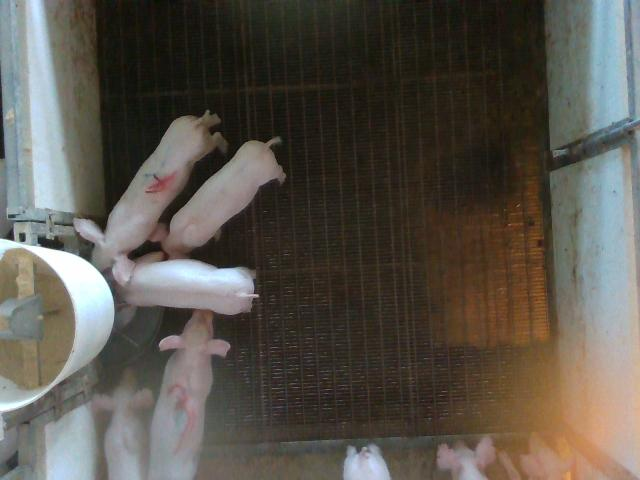pig-3: (149, 310, 230, 478)
pig-4: (75, 111, 228, 285)
